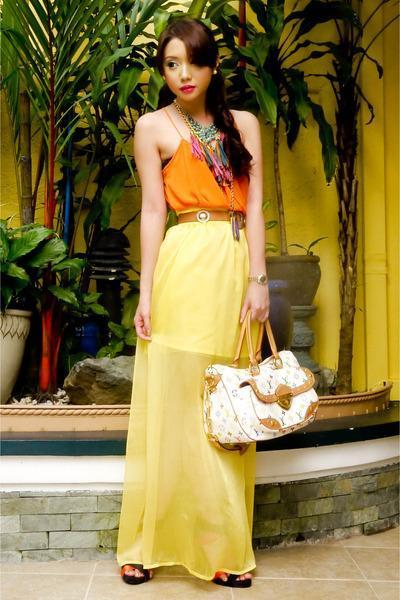bag: (186, 334, 338, 444)
shirt: (158, 117, 252, 241)
shoe: (121, 564, 252, 587)
skirt: (108, 218, 265, 580)
